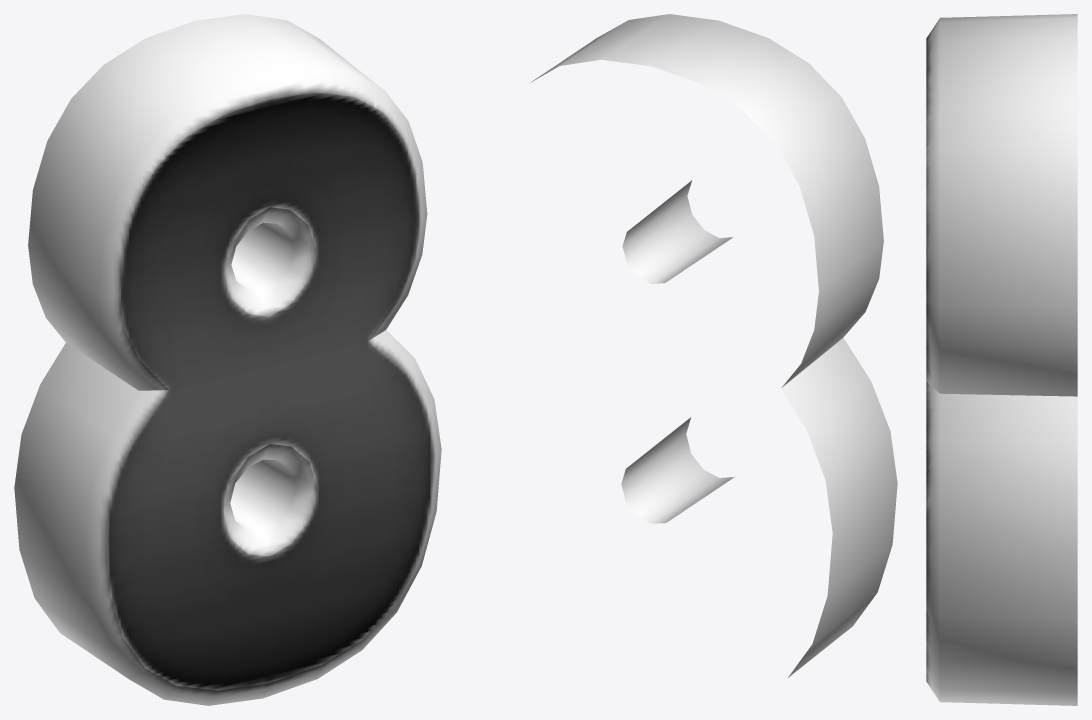
Rendered from bbl_score_model__score_8b.glb.
3 renders of one model, left to right at view 1: azimuth 30°, elevation 25°; view 2: azimuth 150°, elevation 25°; view 3: azimuth 270°, elevation 25°, orthographic.
Visible parts, largest first — view 1: polygon1, polygon0; view 2: polygon0; view 3: polygon0.
Boxes of the visible parts, <box> form: polygon1: <box>106,92,433,690</box>; polygon0: <box>14,14,441,705</box>; polygon0: <box>529,14,897,677</box>; polygon0: <box>926,14,1077,705</box>.
Bounding box in the file's own units: 3.09 × 5.16 × 1.1.
2 materials, 2 textured.
